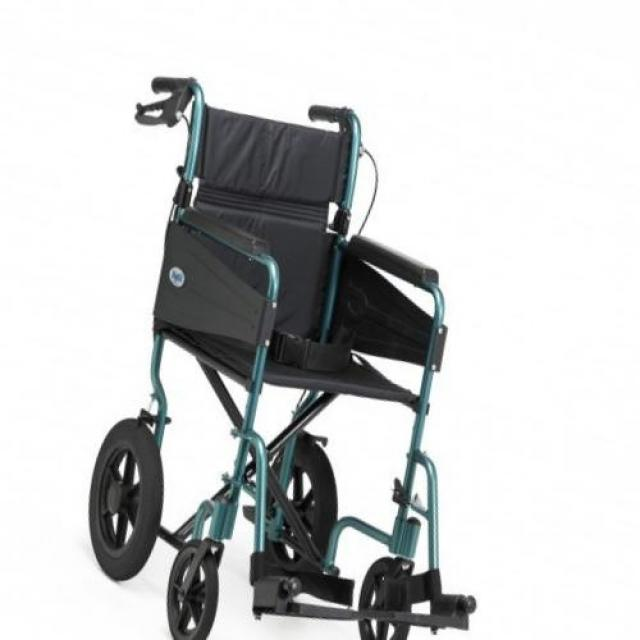wheelchair: (85, 53, 535, 640)
